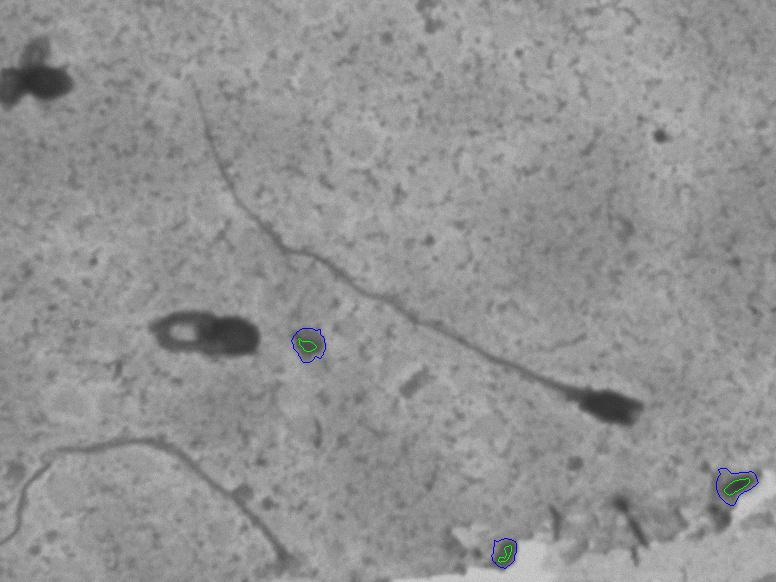Abnormal: (353, 57, 724, 452), (134, 282, 262, 377)
